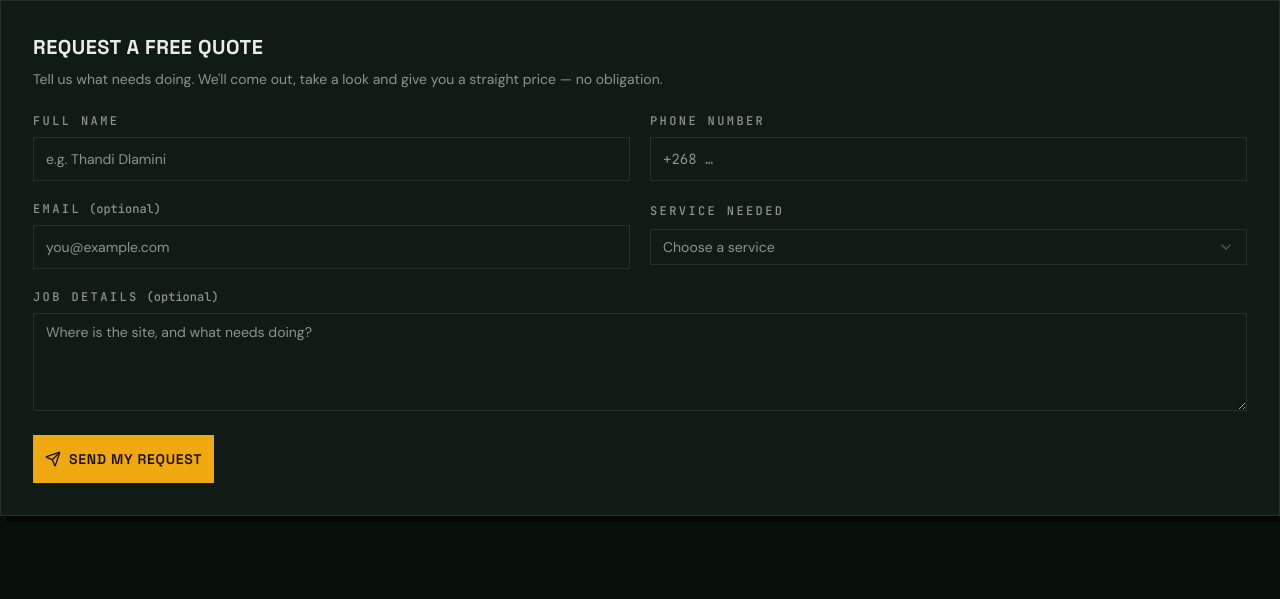
Test: QuoteForm › submits the captured fields and shows a confirmation
Type "Thandi Dlamini" into the field labelled "Full name" at {"x": 332, "y": 159}, box [33,137,630,181]
Type "+268 7948 9466" into the field labelled "Phone number" at {"x": 948, "y": 159}, box [650,137,1247,181]
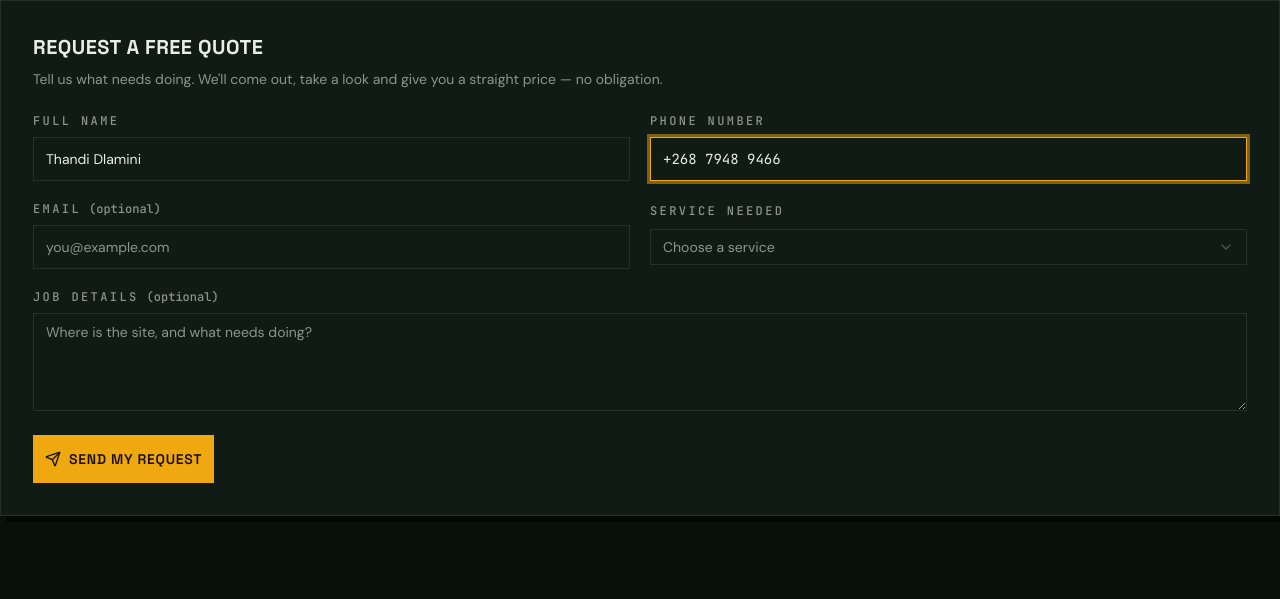
Type "thandi@example.com" into the field labelled "Email (optional)" at {"x": 332, "y": 247}, box [33,225,630,269]
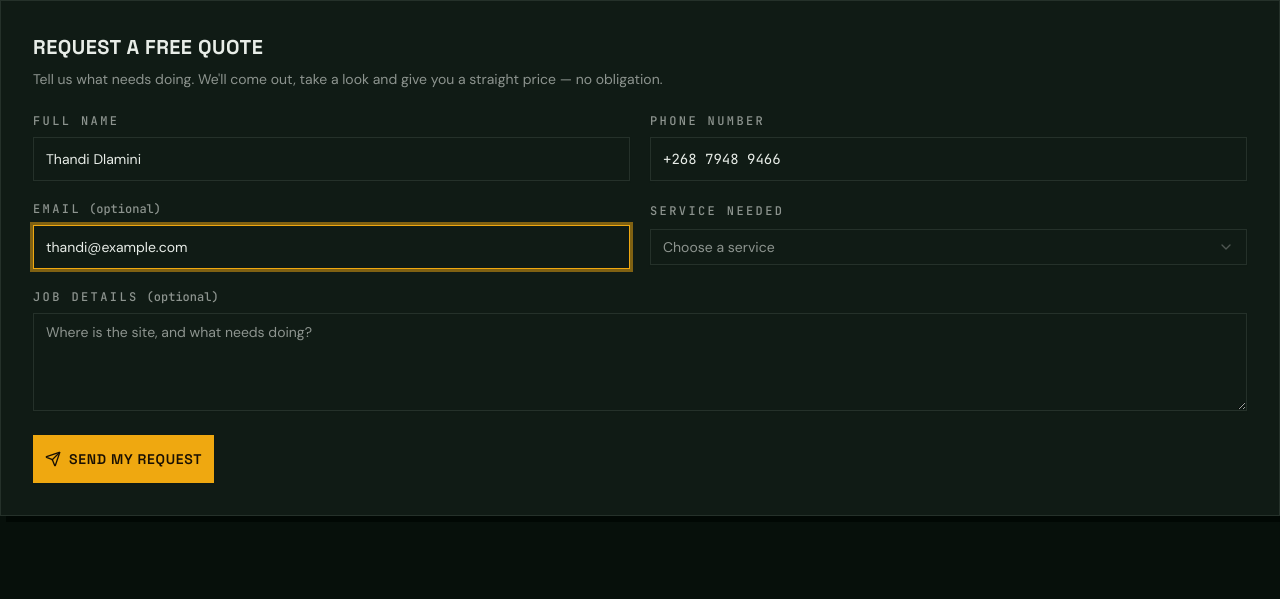
Type "Leaking roof over the kitchen." into the text box labelled "Job details (optional)" at {"x": 640, "y": 362}, box [33,313,1247,411]
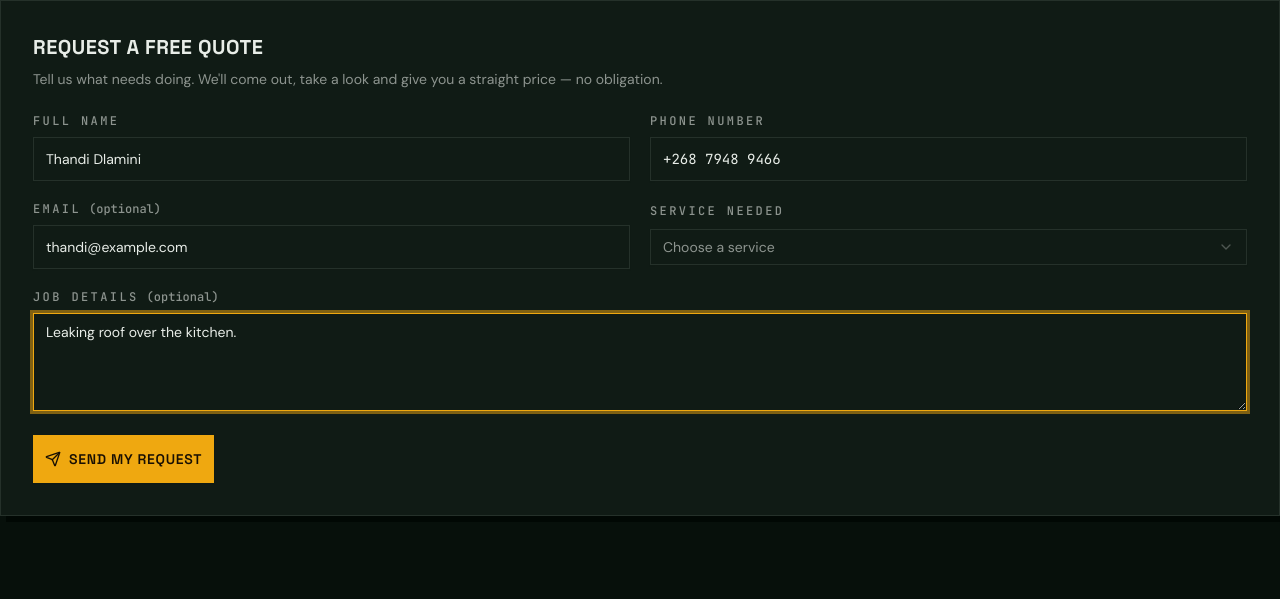
Click the dropdown named "service needed" at {"x": 719, "y": 247}, box [650,229,1247,265]
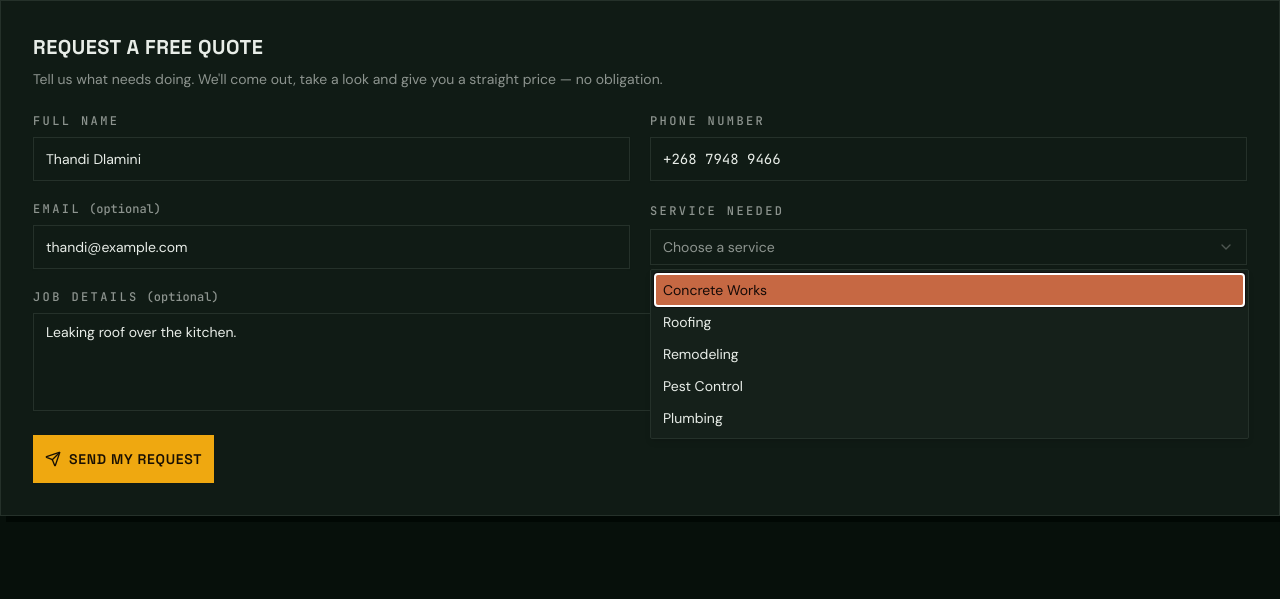
Click the option "Roofing" at {"x": 687, "y": 322}, box [663,313,711,331]
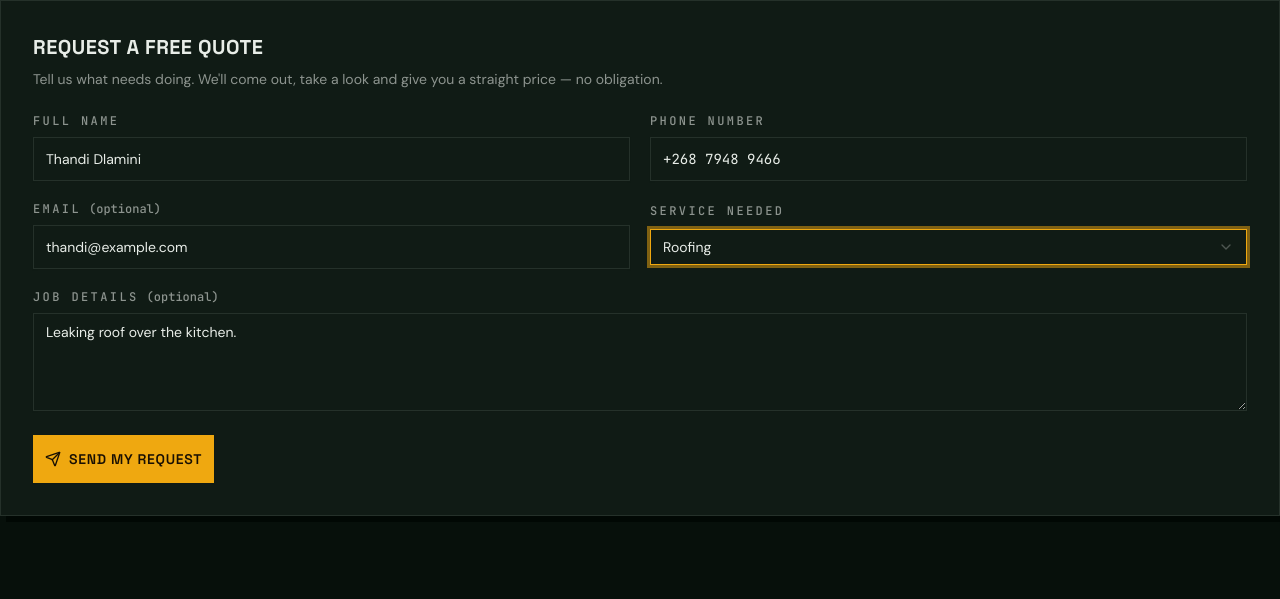
Click the button "Send my request" at {"x": 124, "y": 459}, box [33,435,214,483]
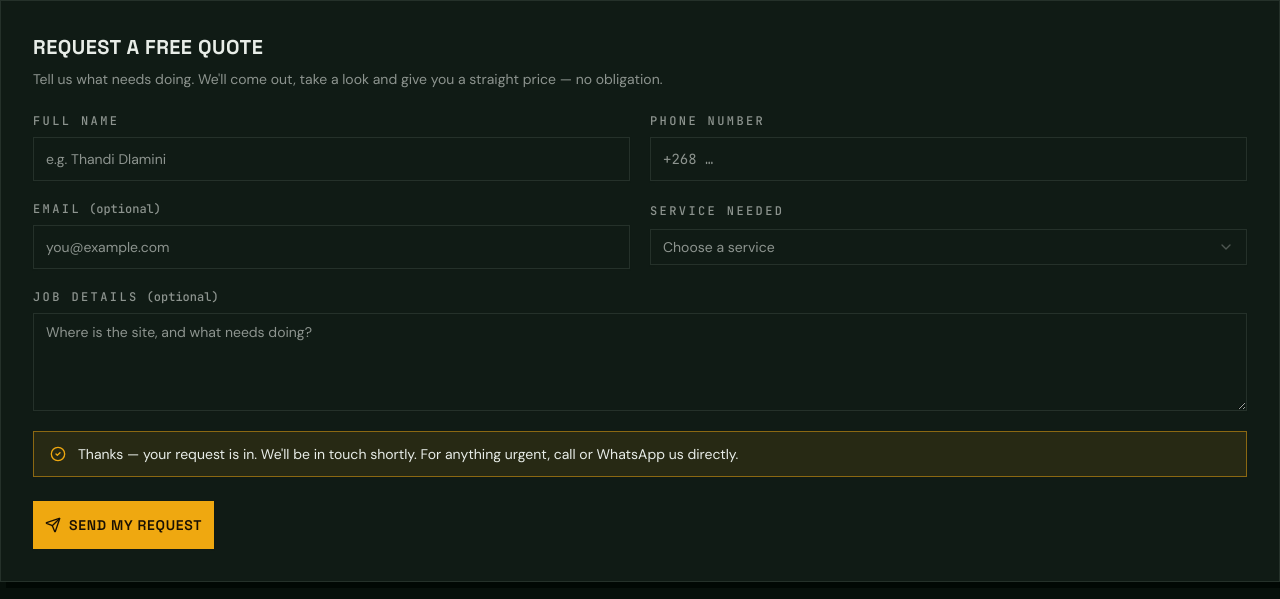
expect the text "your request is in" is shown: met, box [78,445,738,463]
